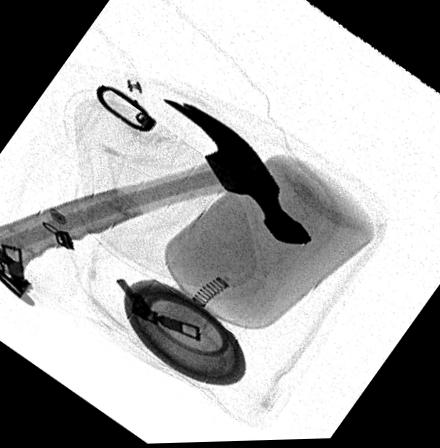Hammer: (0, 100, 312, 281)
